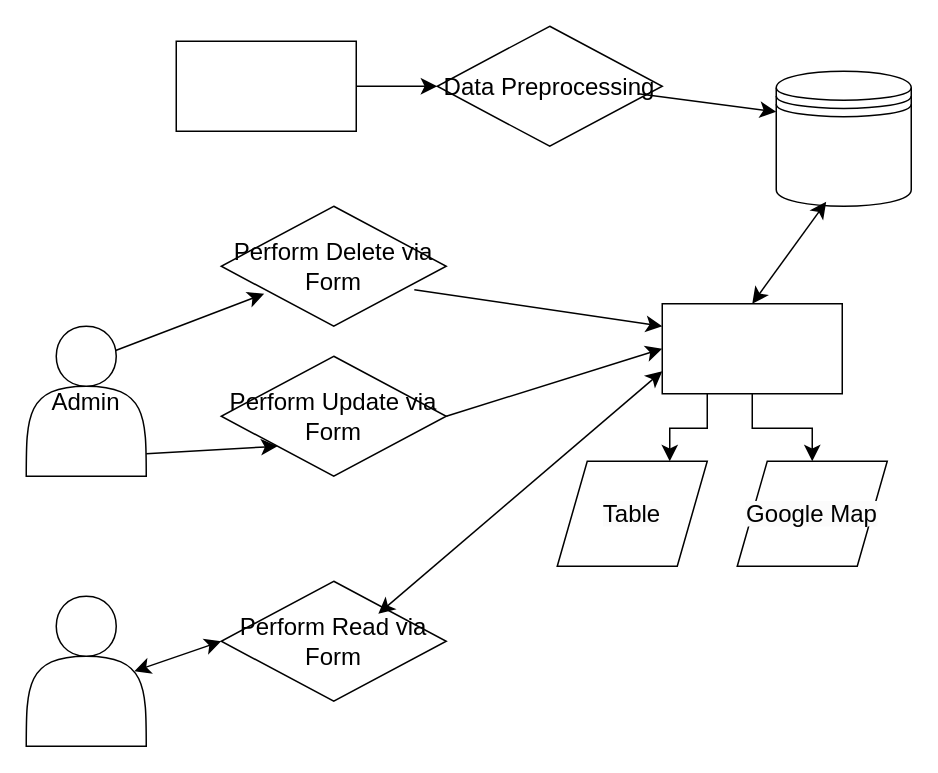
Image size: 938x773. Some labels were removed from this diagram. The shapes that lost their labels are listed below. From the top down, each one's centre as x and y in pixels, then its label:
point 265,85: Crawler
point 843,138: Database
point 751,348: Website
point 85,670: User
